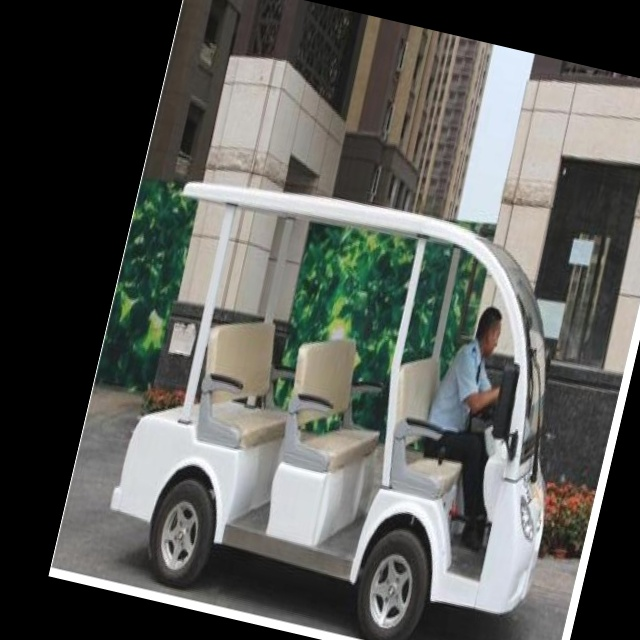Sin_Casco_Mascarrilla: (472, 304, 507, 361)
